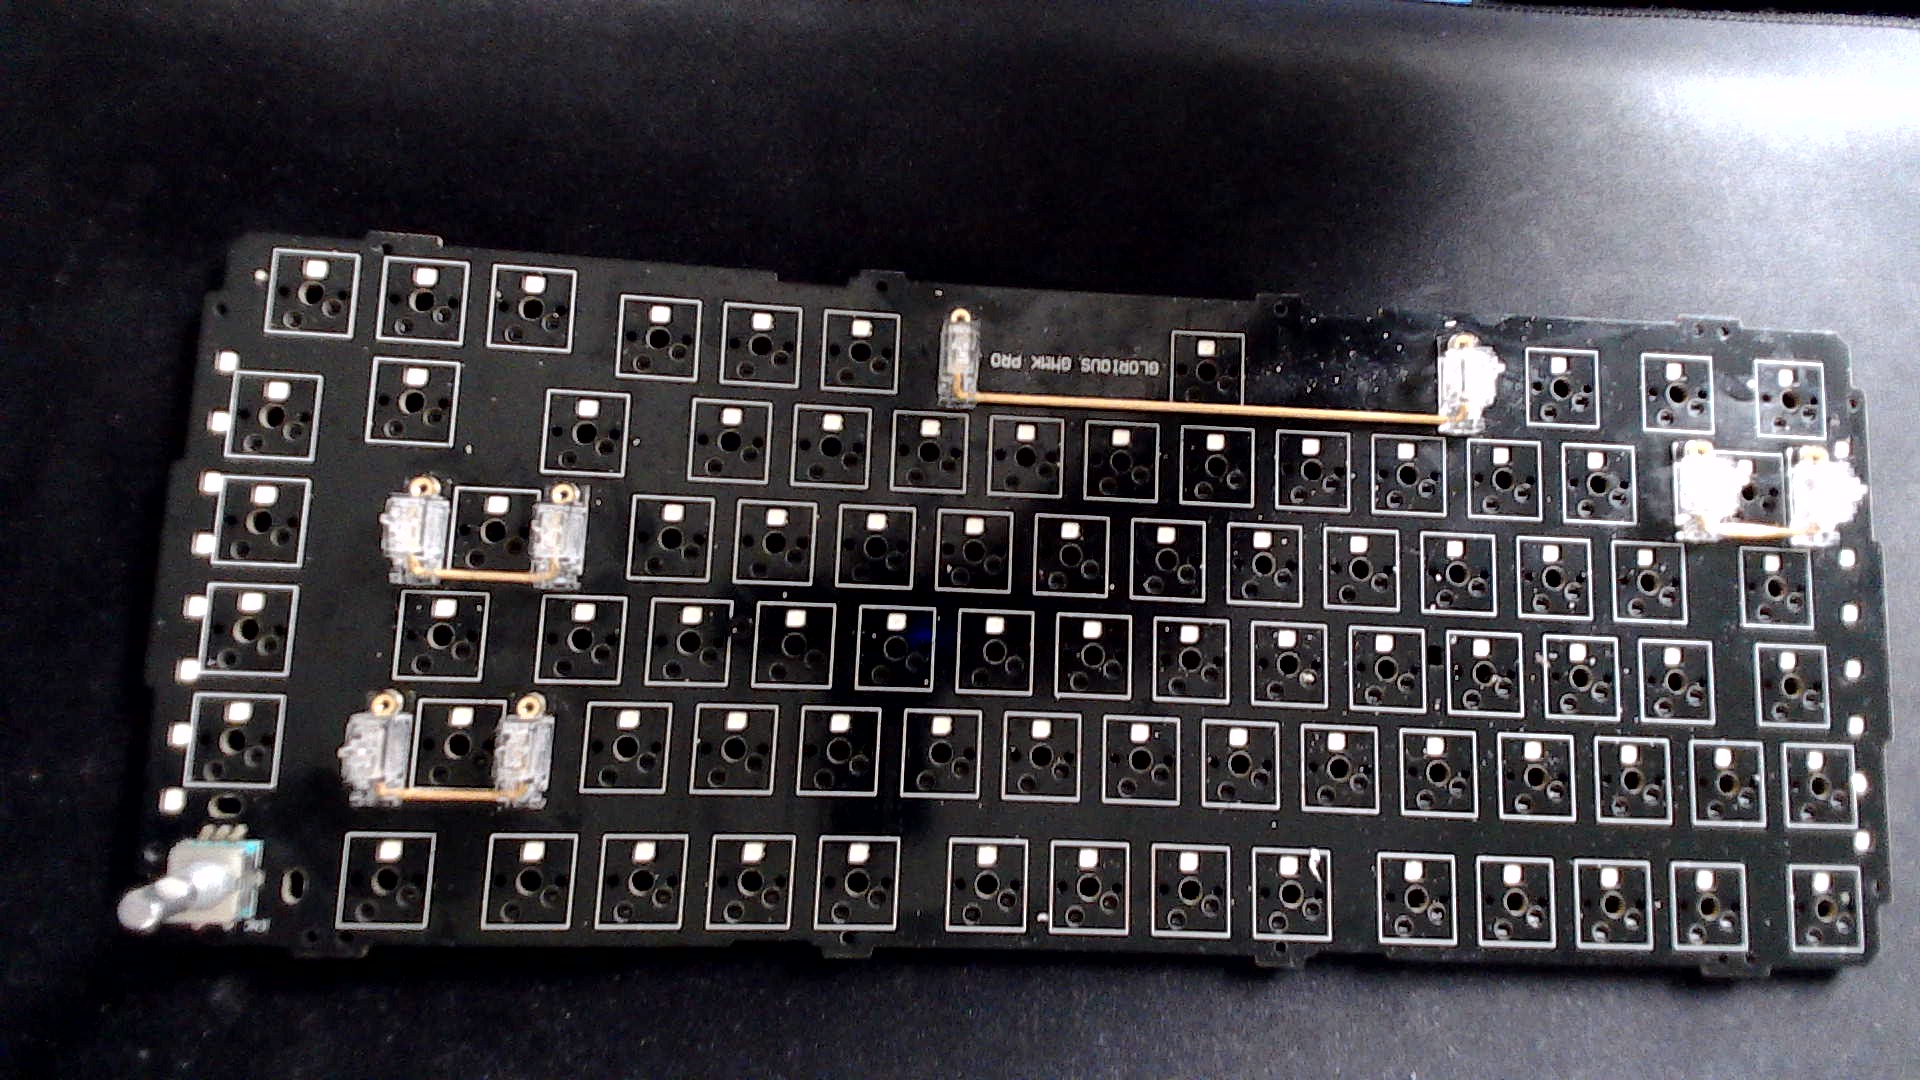pcb: (86, 200, 1903, 1019)
